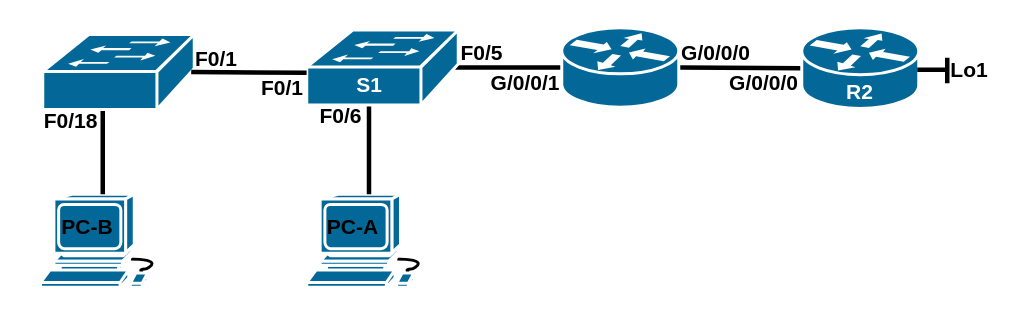
The diagram is 1017 pixels wide and 314 high, and some of its shapes have lost their labels. The box of each missing label's shape, as (x1, y1, x2, y2) in pixels:
R1: (560, 26, 680, 108)
S2: (40, 32, 195, 110)
